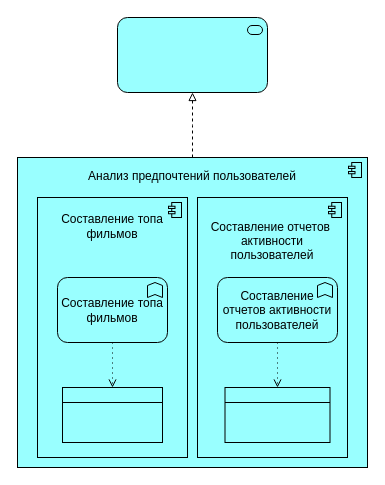
This 385x485 diagram has some shape labels left out. Each missing label, with the centre of its shape:
Данные о пользователях: the point at 277,414
Данные о фильмах: the point at 112,414
Сервис анализа предпочтений пользователя: the point at 192,54
